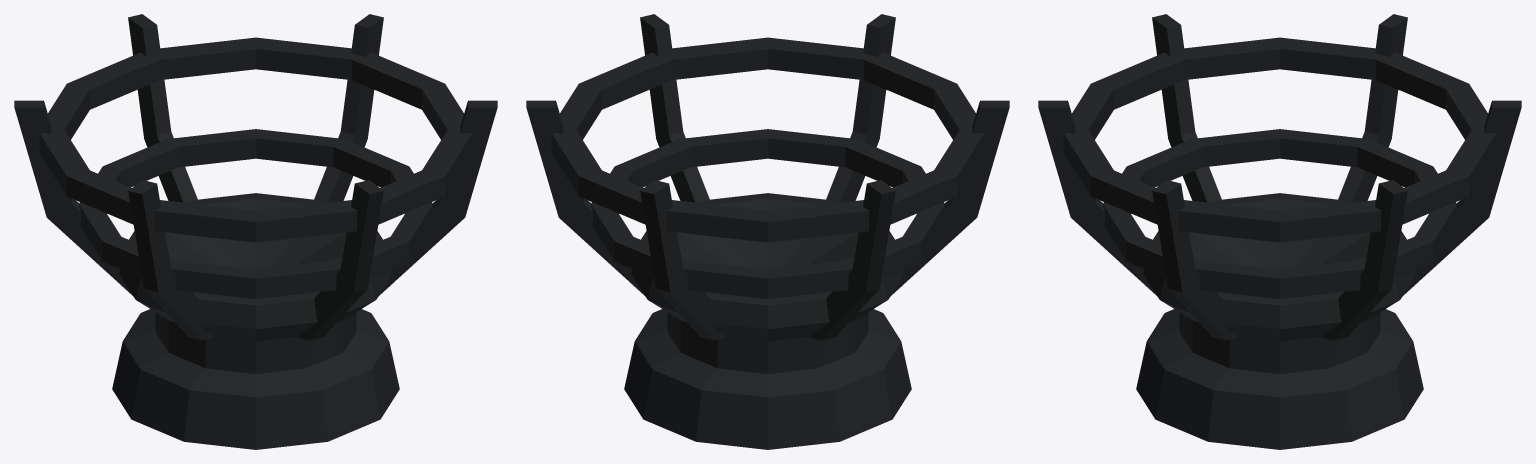
The model's file is pit_brazier.gltf.
3 views of the same model, side by side, from view 1: azimuth 30°, elevation 25°; view 2: azimuth 150°, elevation 25°; view 3: azimuth 270°, elevation 25° (orthographic).
Visible parts, largest first — view 1: pit_brazier; view 2: pit_brazier; view 3: pit_brazier.
Boxes of the visible parts, x1,y1,x2,y2 form: pit_brazier: [14, 14, 497, 449]; pit_brazier: [526, 14, 1009, 449]; pit_brazier: [1038, 14, 1521, 449].
Bounding box in the file's own units: 2.73 × 1.96 × 3.02.
Materials: 1 (1 with a texture image).
